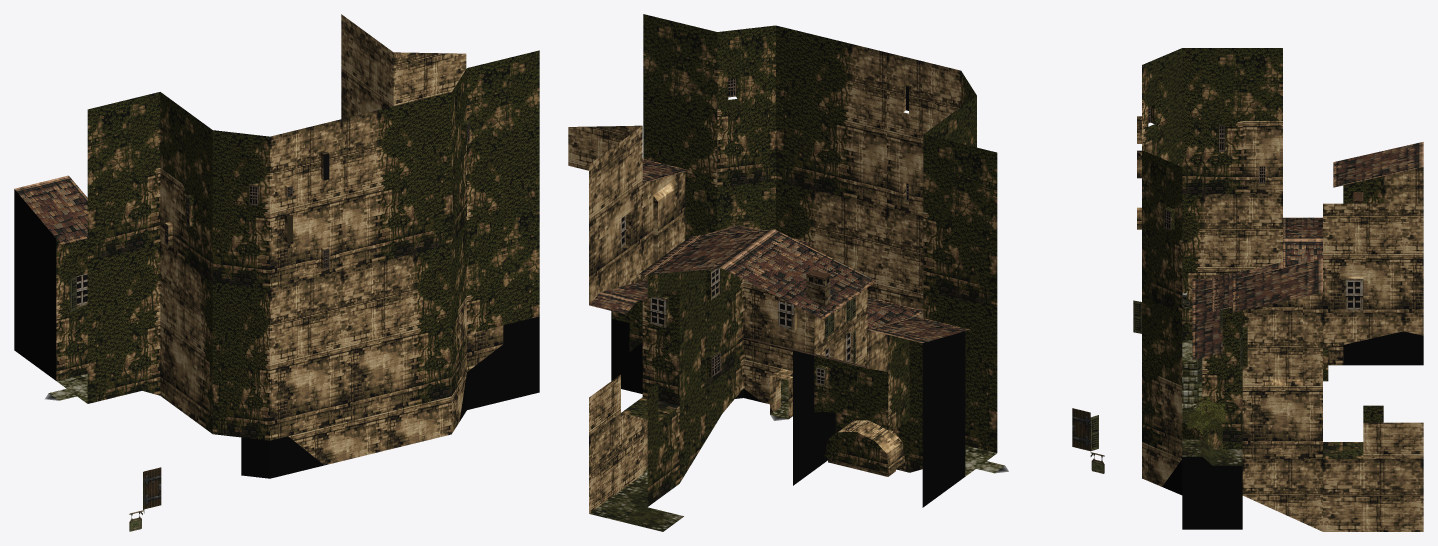
File: MAP158.obj
The picture shows the model from 3 angles, left to right: view 1: azimuth 30°, elevation 25°; view 2: azimuth 150°, elevation 25°; view 3: azimuth 270°, elevation 25°; orthographic projection. The views are drawn at different scales.
Parts seen in each view (by area): view 1: mesh_101, mesh_103, mesh_104, mesh_63, mesh_54, mesh_58, mesh_53, mesh_59, mesh_57, mesh_65, mesh_47, mesh_64 (+13 smaller); view 2: mesh_65, mesh_63, mesh_103, mesh_104, mesh_64, mesh_101, mesh_77, mesh_72, mesh_49, mesh_54, mesh_53, mesh_66 (+29 smaller); view 3: mesh_65, mesh_56, mesh_54, mesh_53, mesh_9, mesh_47, mesh_63, mesh_59, mesh_72, mesh_77, mesh_64, mesh_55 (+21 smaller).
Boxes of the visible parts, left/top/right/bottom form: mesh_101: left=270, top=253, right=451, bottom=450; mesh_103: left=270, top=110, right=451, bottom=465; mesh_104: left=379, top=92, right=451, bottom=261; mesh_63: left=451, top=50, right=539, bottom=281; mesh_54: left=87, top=92, right=202, bottom=197; mesh_58: left=212, top=282, right=269, bottom=440; mesh_53: left=87, top=123, right=212, bottom=281; mesh_59: left=212, top=130, right=269, bottom=288; mesh_57: left=87, top=244, right=212, bottom=433; mesh_65: left=341, top=14, right=466, bottom=118; mesh_47: left=241, top=316, right=539, bottom=478; mesh_64: left=451, top=126, right=539, bottom=243; mesh_65: left=568, top=125, right=685, bottom=474; mesh_63: left=643, top=14, right=775, bottom=225; mesh_103: left=850, top=43, right=961, bottom=216; mesh_104: left=776, top=25, right=849, bottom=198; mesh_64: left=643, top=91, right=775, bottom=187; mesh_101: left=813, top=189, right=923, bottom=317; mesh_77: left=679, top=268, right=743, bottom=482; mesh_72: left=648, top=226, right=910, bottom=329; mesh_49: left=922, top=331, right=965, bottom=507; mesh_54: left=923, top=103, right=997, bottom=229; mesh_53: left=923, top=95, right=997, bottom=307; mesh_66: left=611, top=290, right=679, bottom=421; mesh_65: left=1242, top=203, right=1423, bottom=495; mesh_56: left=1202, top=194, right=1282, bottom=278; mesh_54: left=1202, top=48, right=1282, bottom=120; mesh_53: left=1182, top=48, right=1242, bottom=193; mesh_9: left=1243, top=495, right=1423, bottom=531; mesh_47: left=1162, top=456, right=1242, bottom=529; mesh_63: left=1142, top=150, right=1182, bottom=349; mesh_59: left=1142, top=48, right=1182, bottom=166; mesh_72: left=1202, top=219, right=1322, bottom=357; mesh_77: left=1202, top=332, right=1242, bottom=449; mesh_64: left=1142, top=223, right=1182, bottom=312; mesh_55: left=1242, top=121, right=1282, bottom=193.
Bounding box in the file's own units: 304 × 256 × 185.
23 materials, 23 textured.
